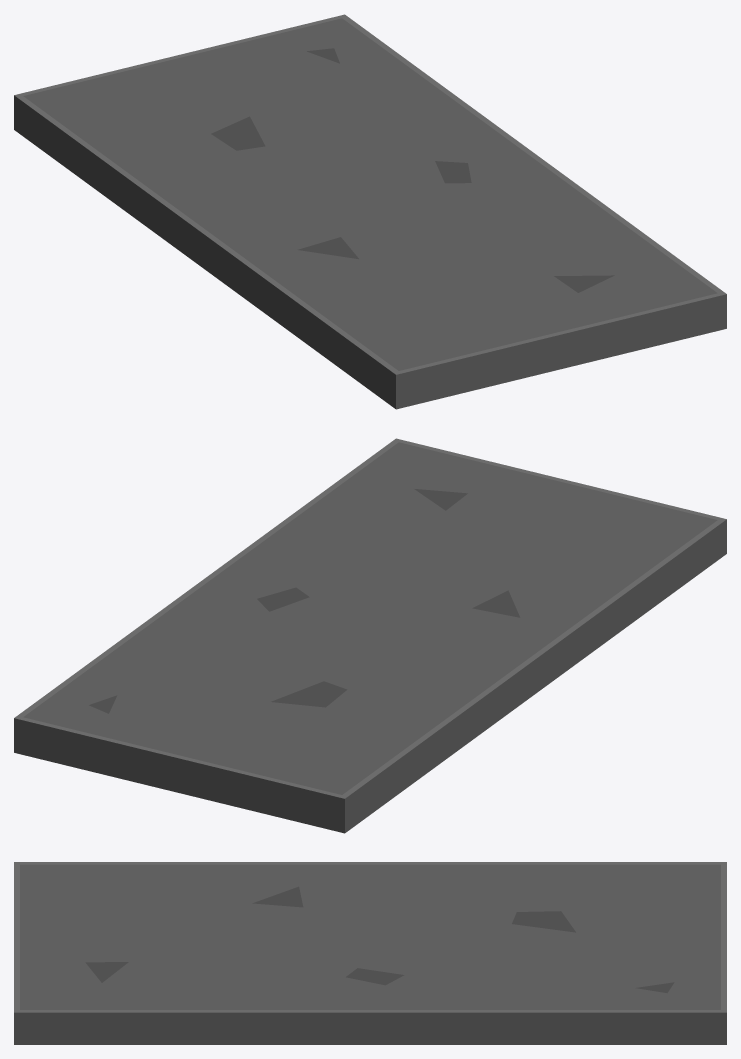
Rendered from ConcrateSlabs_B_3_3.fbx.
The picture shows the model from 3 angles, top to bottom: view 1: azimuth 30°, elevation 25°; view 2: azimuth 150°, elevation 25°; view 3: azimuth 270°, elevation 25°; orthographic projection. The views are drawn at different scales.
Visible parts, largest first — view 1: ConcrateSlabs_B_3_3; view 2: ConcrateSlabs_B_3_3; view 3: ConcrateSlabs_B_3_3.
Part boxes in pixels (bbox=[...]): ConcrateSlabs_B_3_3: bbox=[14, 14, 726, 409]; ConcrateSlabs_B_3_3: bbox=[14, 438, 726, 833]; ConcrateSlabs_B_3_3: bbox=[14, 862, 726, 1044].
Size of the model in its own units: 400 by 40 by 800.
